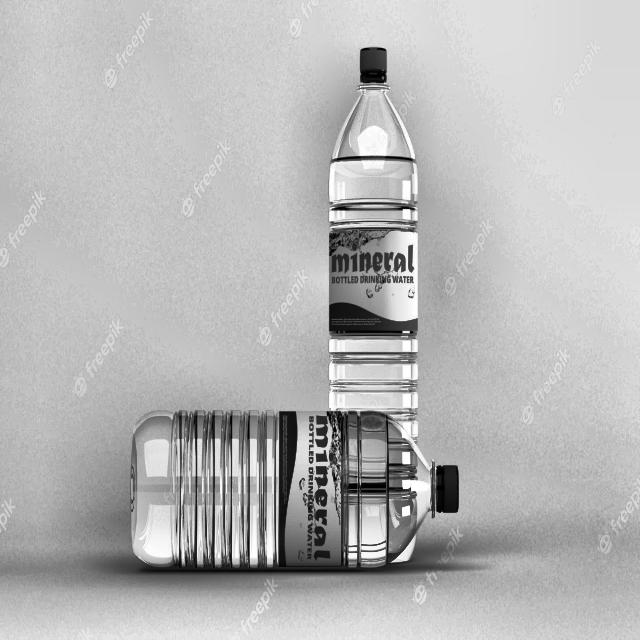waterbottle: (124, 400, 467, 583), (324, 35, 429, 569)
